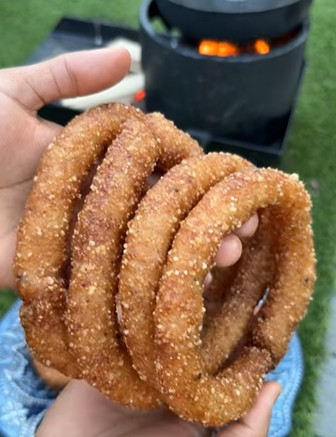sel_roti: (159, 168, 315, 425), (18, 105, 132, 393)
